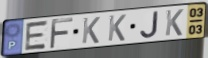E: (23, 19, 50, 52)
F: (48, 17, 75, 51)
J: (138, 10, 160, 40)
K: (164, 8, 185, 38), (81, 16, 102, 45), (107, 14, 128, 43)
